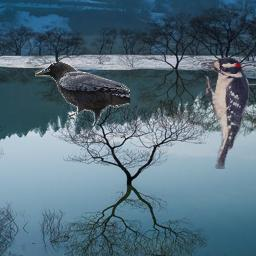Crow: (35, 62, 130, 126)
Woodpecker: (201, 55, 251, 169)
